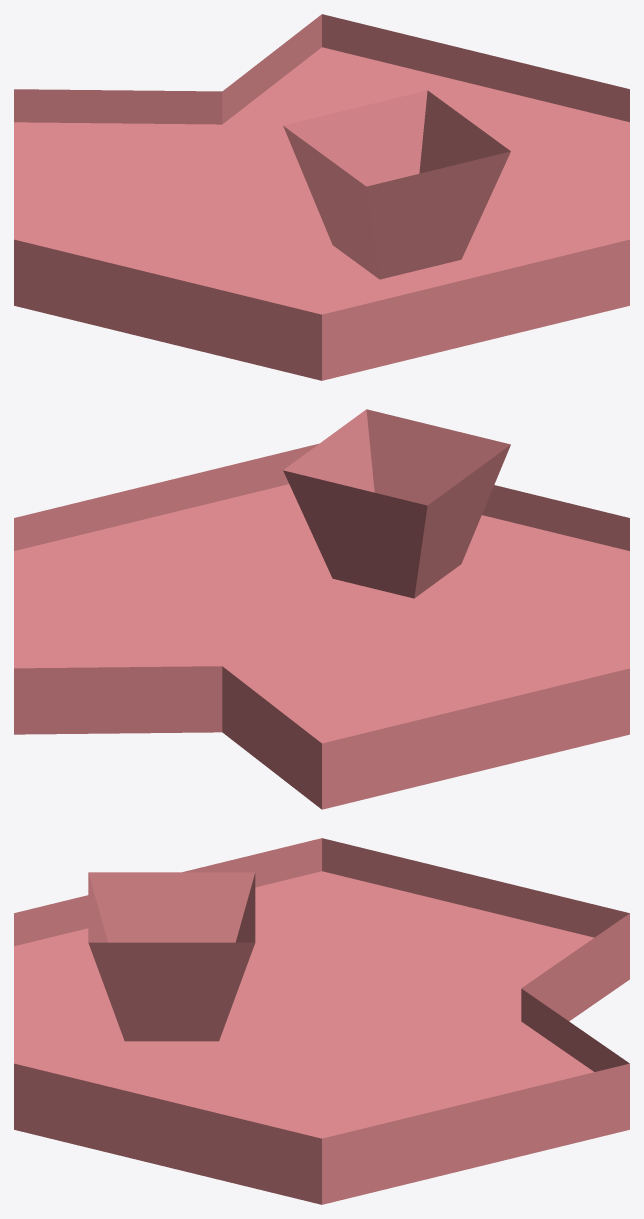
File: lily_large.fbx
The picture shows the model from 3 angles, top to bottom: view 1: azimuth 30°, elevation 25°; view 2: azimuth 150°, elevation 25°; view 3: azimuth 270°, elevation 25°; orthographic projection.
Parts seen in each view (by area): view 1: lily_large; view 2: lily_large; view 3: lily_large.
Boxes of the visible parts, bbox=[...] form: lily_large: bbox=[14, 14, 629, 380]; lily_large: bbox=[14, 409, 629, 809]; lily_large: bbox=[14, 838, 629, 1204].
Size of the model in its own units: 96.37 by 21.99 by 83.46.
